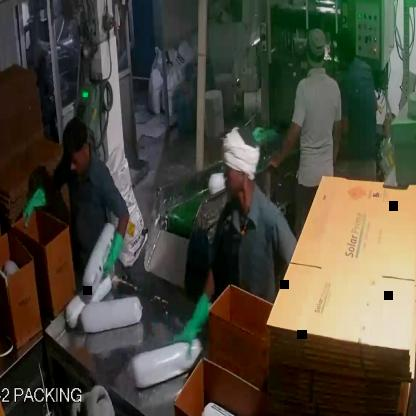glove: (169, 285, 213, 359), (16, 173, 53, 235), (96, 221, 129, 284)
no_glove: (265, 113, 302, 174), (329, 113, 344, 172)
